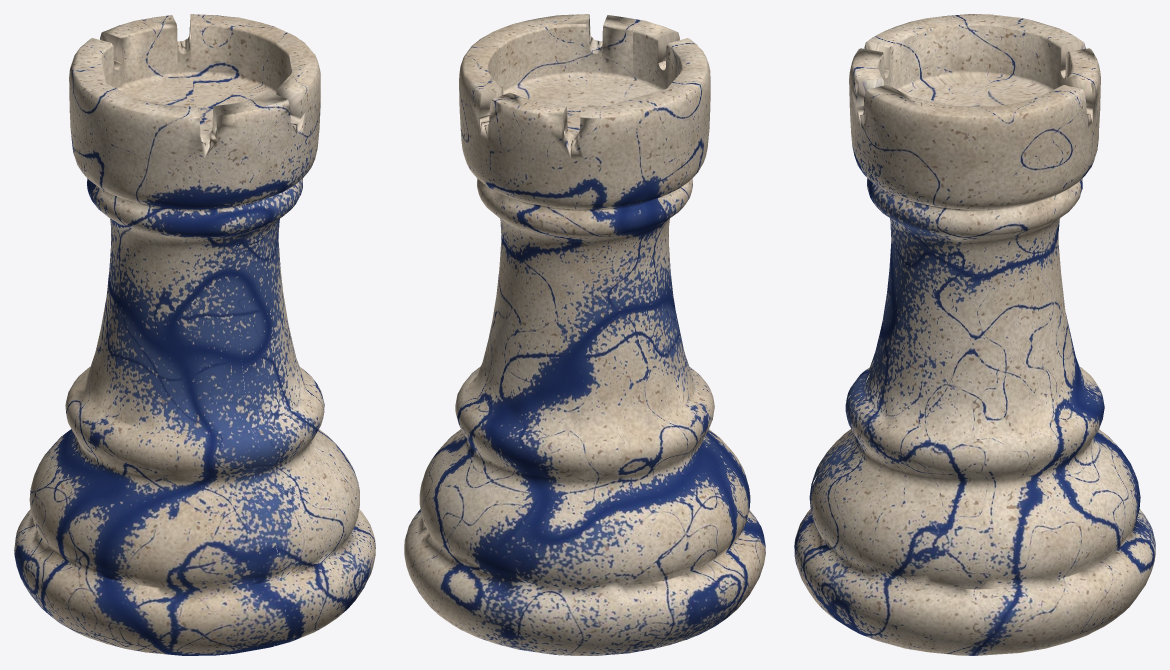
File: rook-white.glb
3 renders of one model, left to right at view 1: azimuth 30°, elevation 25°; view 2: azimuth 150°, elevation 25°; view 3: azimuth 270°, elevation 25°, orthographic.
Parts seen in each view (by area): view 1: Cobalt Vein white rook; view 2: Cobalt Vein white rook; view 3: Cobalt Vein white rook.
Boxes of the visible parts, x1,y1,x2,y2 form: Cobalt Vein white rook: (14, 14, 375, 655); Cobalt Vein white rook: (404, 14, 765, 655); Cobalt Vein white rook: (794, 14, 1155, 655).
Bounding box in the file's own units: 0.5949 × 0.96 × 0.5961.
1 material, 1 textured.
